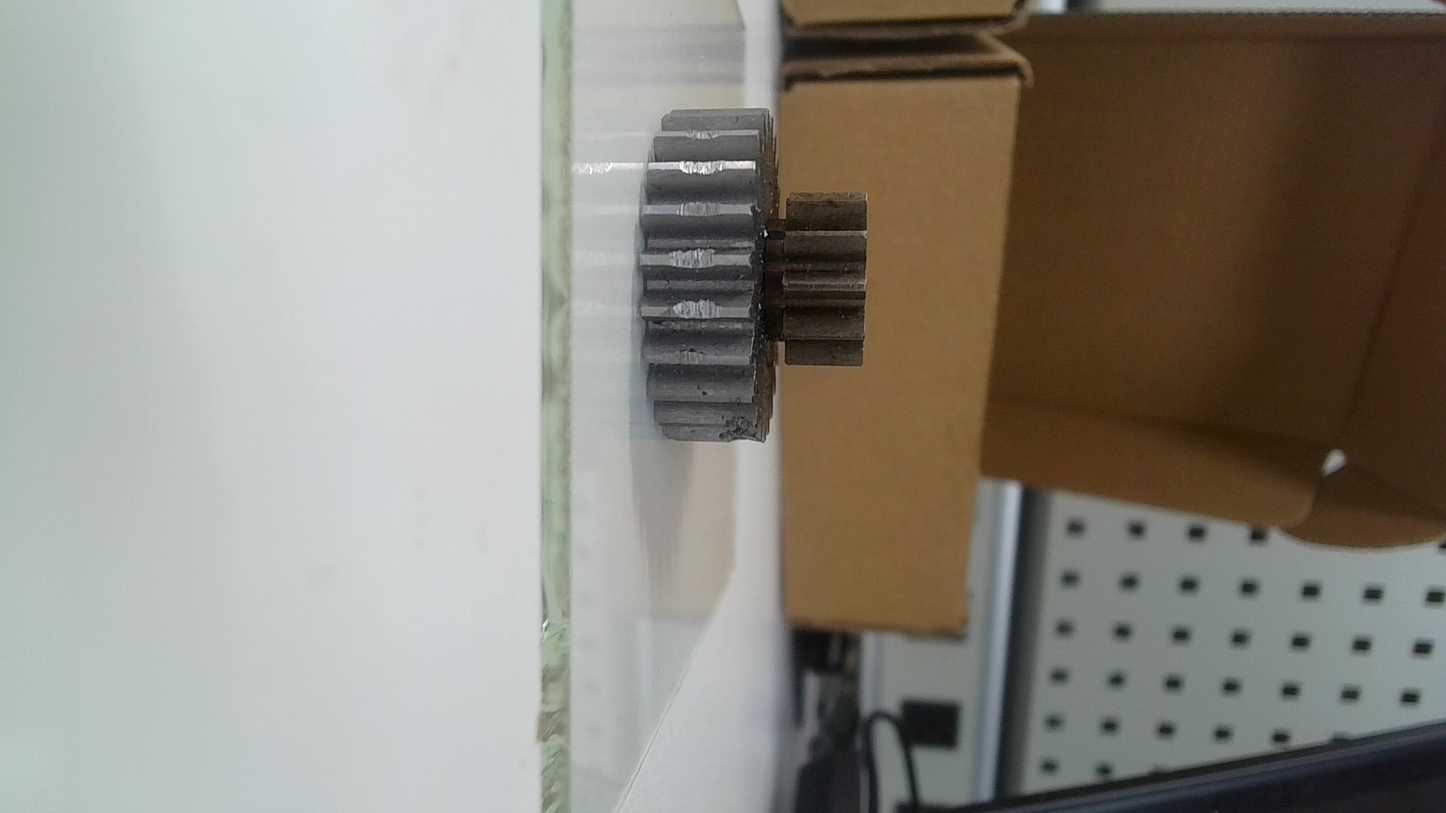gear: (636, 95, 879, 456)
